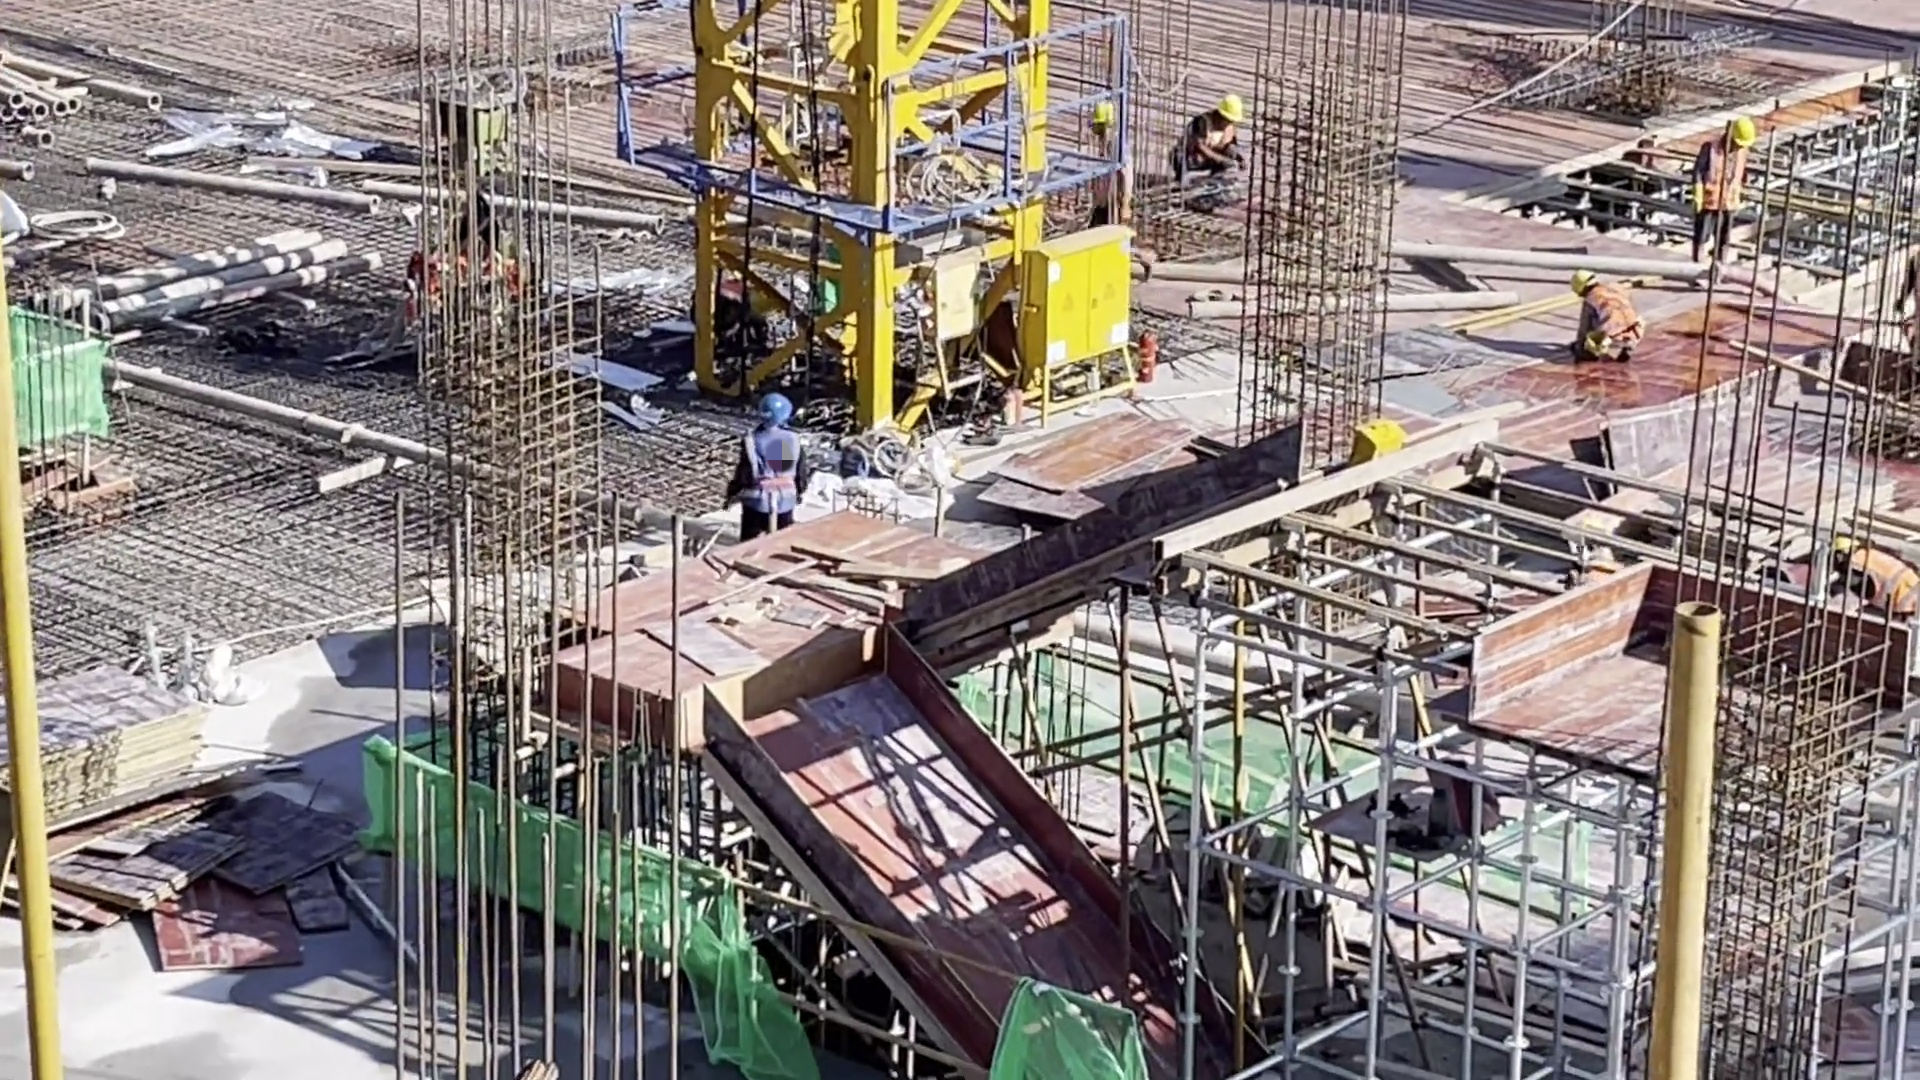helmet: (1722, 114, 1761, 151), (757, 390, 790, 428), (1572, 270, 1605, 306), (1215, 96, 1243, 130), (1081, 98, 1112, 129)
person: (732, 393, 819, 525), (1695, 112, 1765, 260), (1824, 533, 1920, 640), (1562, 264, 1650, 363), (1165, 97, 1242, 198), (1077, 99, 1139, 219)
vest: (1850, 546, 1920, 620), (743, 433, 802, 513), (1695, 145, 1750, 219), (1585, 286, 1644, 354), (1182, 116, 1233, 175)
